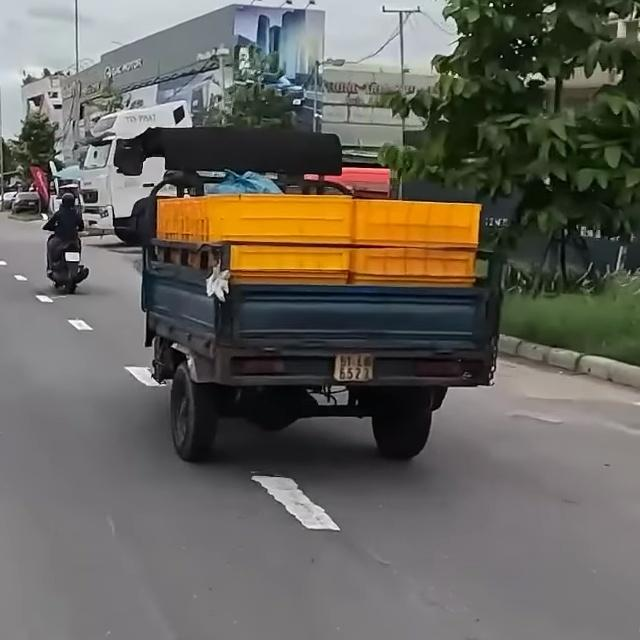license-plate: (333, 354, 374, 382)
